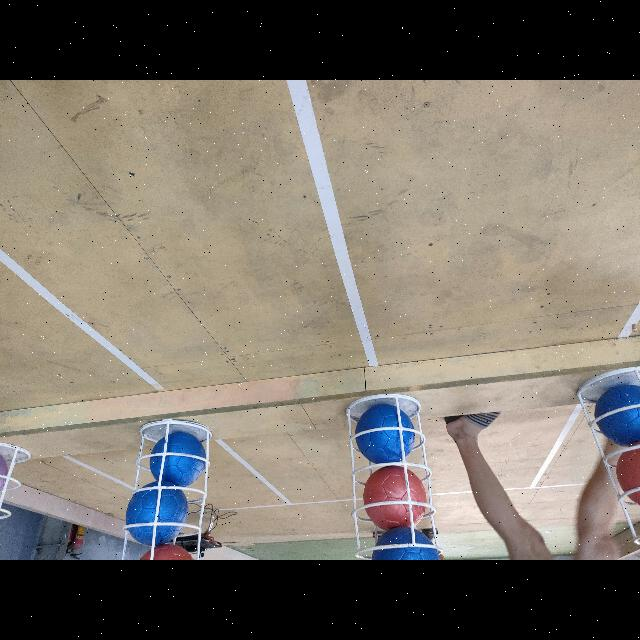B: (125, 482, 188, 546), (355, 404, 415, 464), (150, 432, 206, 486), (594, 384, 640, 444), (370, 530, 440, 560)
R: (363, 464, 427, 528), (618, 443, 640, 509), (141, 544, 195, 560)
